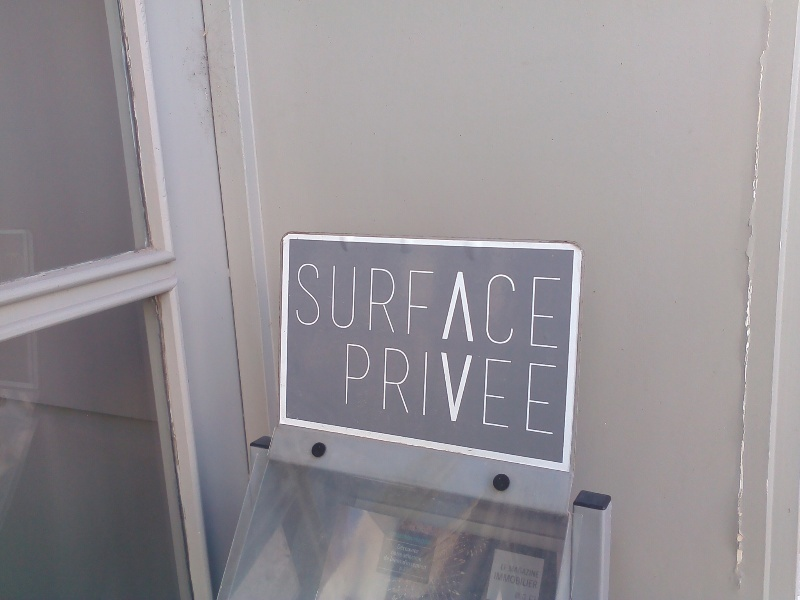text: (353, 343, 368, 438), (369, 343, 384, 438), (385, 343, 400, 438), (401, 343, 416, 438), (417, 343, 432, 438), (433, 343, 448, 438), (449, 343, 464, 438), (465, 343, 480, 438), (481, 343, 496, 438), (497, 343, 512, 438), (513, 343, 528, 438), (529, 343, 544, 438), (545, 343, 560, 438), (305, 263, 320, 351), (321, 263, 336, 351), (337, 263, 352, 351), (353, 263, 368, 351), (369, 263, 384, 351), (385, 263, 400, 351), (401, 263, 416, 351), (417, 263, 432, 351), (433, 263, 448, 351), (449, 263, 464, 351), (465, 263, 480, 351), (481, 263, 496, 351), (497, 263, 512, 351), (513, 263, 528, 351), (529, 263, 544, 351), (545, 263, 560, 351), (298, 263, 304, 351), (347, 343, 352, 438), (561, 263, 565, 351), (497, 571, 512, 590), (513, 571, 528, 590), (417, 531, 433, 547), (401, 531, 416, 547), (513, 565, 528, 579), (529, 571, 540, 590), (401, 543, 416, 555), (403, 559, 416, 572), (529, 565, 541, 579), (390, 531, 400, 547), (417, 559, 428, 572), (404, 553, 416, 563), (501, 563, 512, 572), (390, 556, 400, 565), (392, 550, 400, 558), (417, 553, 423, 563), (417, 543, 421, 555), (509, 565, 512, 579), (494, 571, 496, 590), (397, 543, 400, 555), (385, 555, 390, 562), (401, 550, 404, 558), (401, 556, 403, 565)
